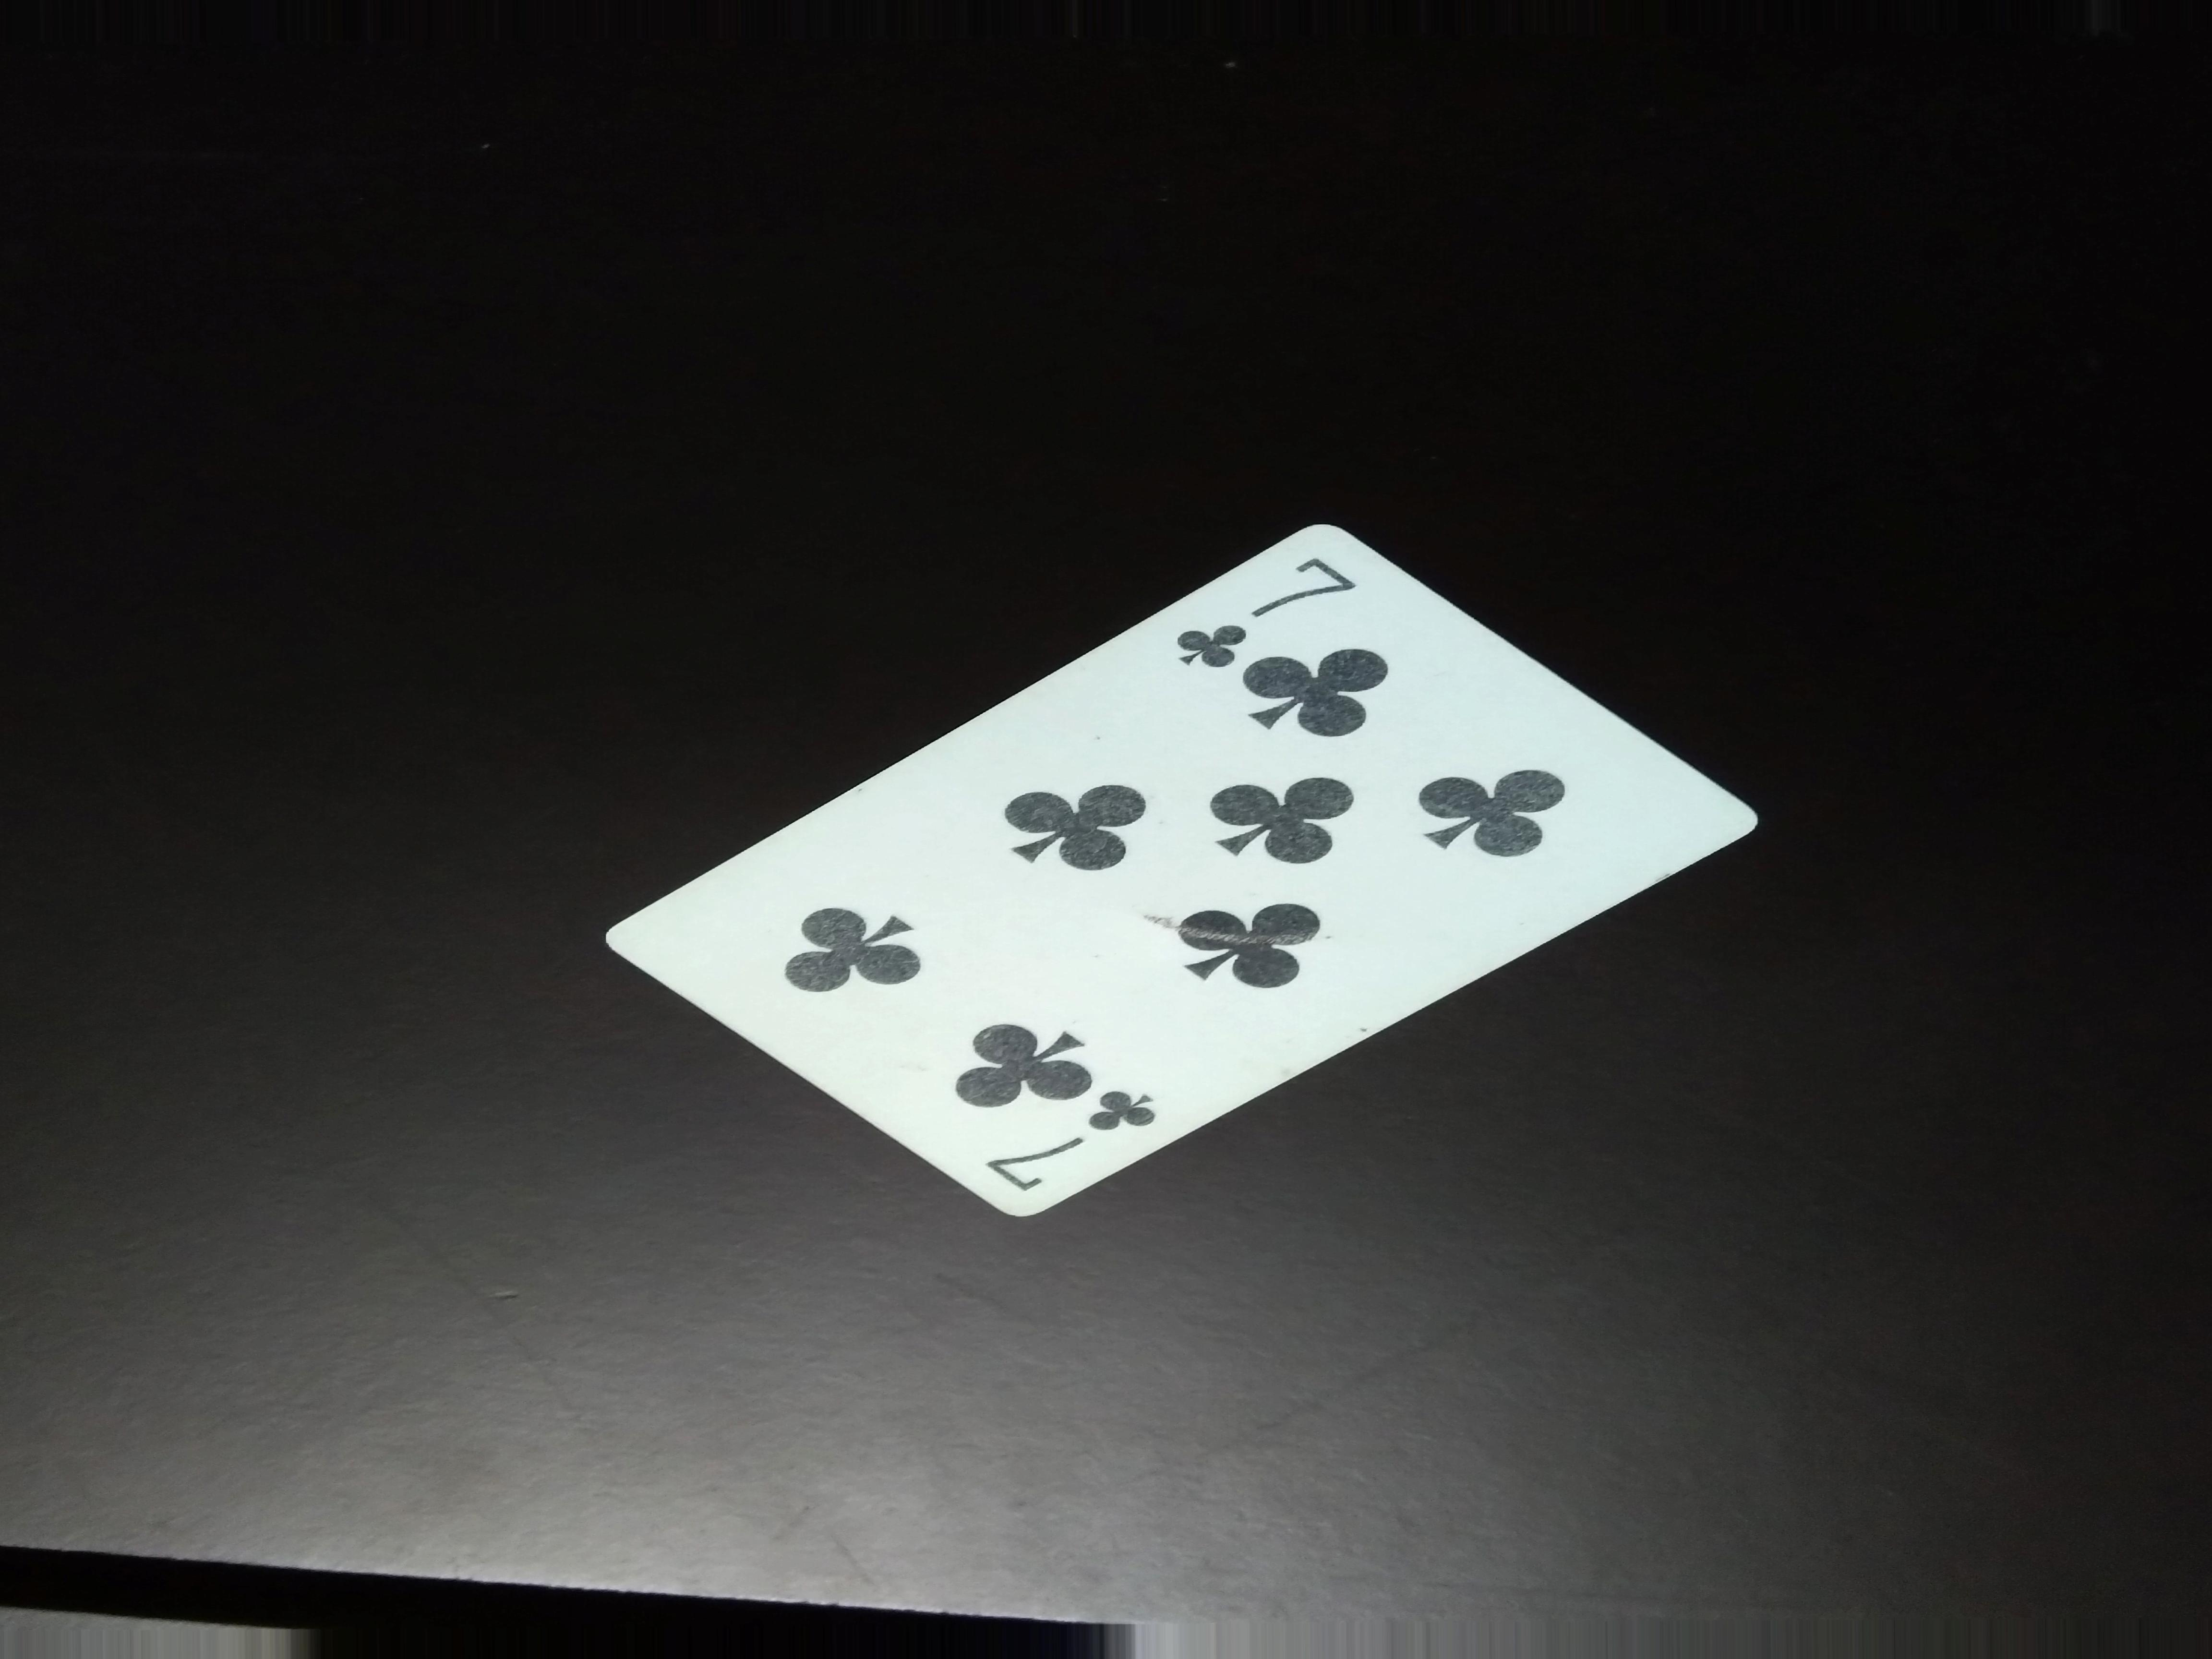7C: (982, 1087, 1169, 1175)
